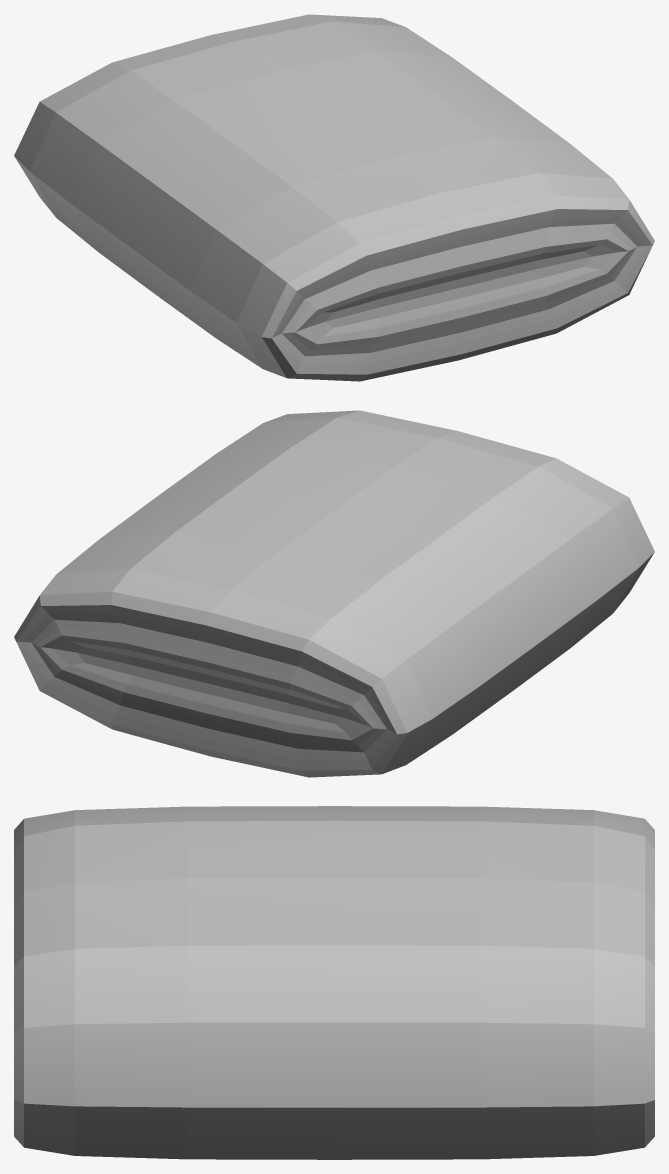
File: Clothes1_C1.fbx
3 renders of one model, top to bottom at view 1: azimuth 30°, elevation 25°; view 2: azimuth 150°, elevation 25°; view 3: azimuth 270°, elevation 25°, orthographic. The views are drawn at different scales.
Visible parts, largest first — view 1: Clothes1_C1; view 2: Clothes1_C1; view 3: Clothes1_C1.
Boxes of the visible parts, x1,y1,x2,y2 form: Clothes1_C1: (14,14,654,381); Clothes1_C1: (14,410,654,777); Clothes1_C1: (14,806,654,1159).
Size of the model in its own units: 21.86 by 8.52 by 23.8.
